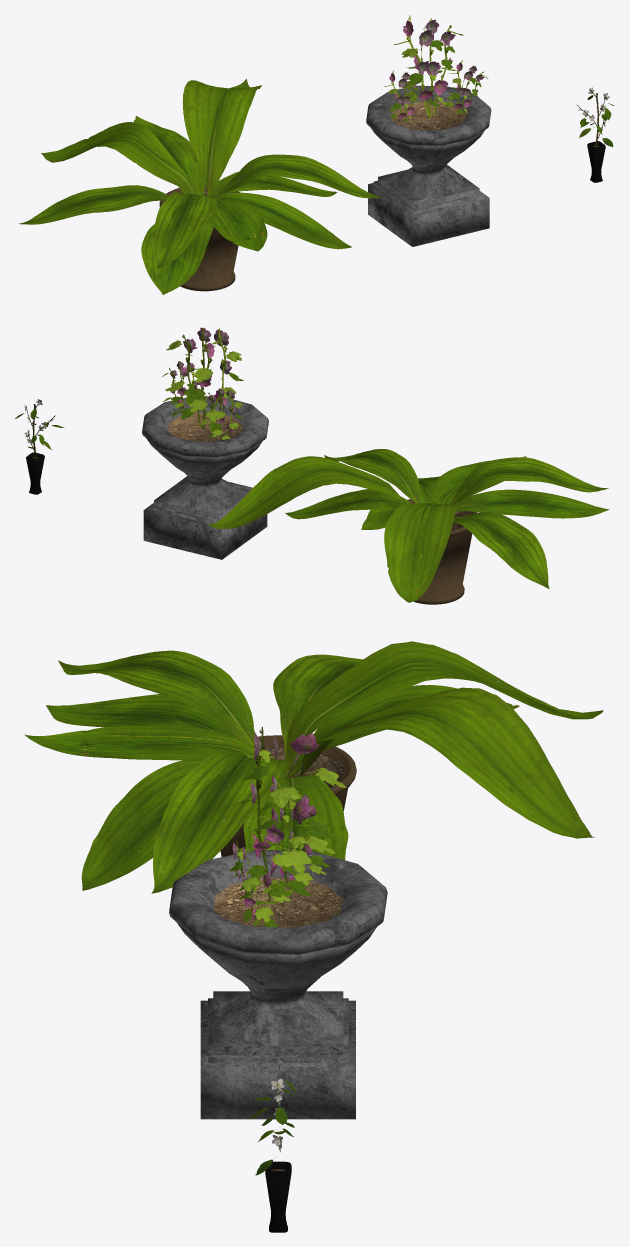
File: Flowerpots.obj
The picture shows the model from 3 angles, top to bottom: view 1: azimuth 30°, elevation 25°; view 2: azimuth 150°, elevation 25°; view 3: azimuth 270°, elevation 25°; orthographic projection. The views are drawn at different scales.
Parts seen in each view (by area): view 1: Flowerpot_1.2, Flowerpot_2, Flowerpot_2.2, Flowerpot_1, Flowerpot_3.2, Flowerpot_3; view 2: Flowerpot_1.2, Flowerpot_2, Flowerpot_2.2, Flowerpot_1, Flowerpot_3, Flowerpot_3.2; view 3: Flowerpot_1.2, Flowerpot_2, Flowerpot_2.2, Flowerpot_1, Flowerpot_3, Flowerpot_3.2.
Boxes of the visible parts, x1,y1,x2,y2 form: Flowerpot_1.2: [18, 79, 383, 294]; Flowerpot_2: [366, 85, 491, 246]; Flowerpot_2.2: [384, 15, 488, 121]; Flowerpot_1: [159, 184, 239, 291]; Flowerpot_3.2: [577, 87, 614, 147]; Flowerpot_3: [587, 141, 605, 182]; Flowerpot_1.2: [206, 449, 609, 602]; Flowerpot_2: [142, 396, 268, 559]; Flowerpot_2.2: [162, 327, 243, 439]; Flowerpot_1: [407, 499, 477, 604]; Flowerpot_3: [26, 452, 44, 494]; Flowerpot_3.2: [15, 399, 64, 458]; Flowerpot_1.2: [24, 641, 603, 893]; Flowerpot_2: [169, 850, 387, 1119]; Flowerpot_2.2: [229, 727, 346, 927]; Flowerpot_1: [220, 735, 356, 856]; Flowerpot_3: [265, 1161, 291, 1232]; Flowerpot_3.2: [249, 1062, 297, 1175].
Size of the model in its own units: 4.22 by 1.46 by 2.22.
5 materials, 5 textured.
